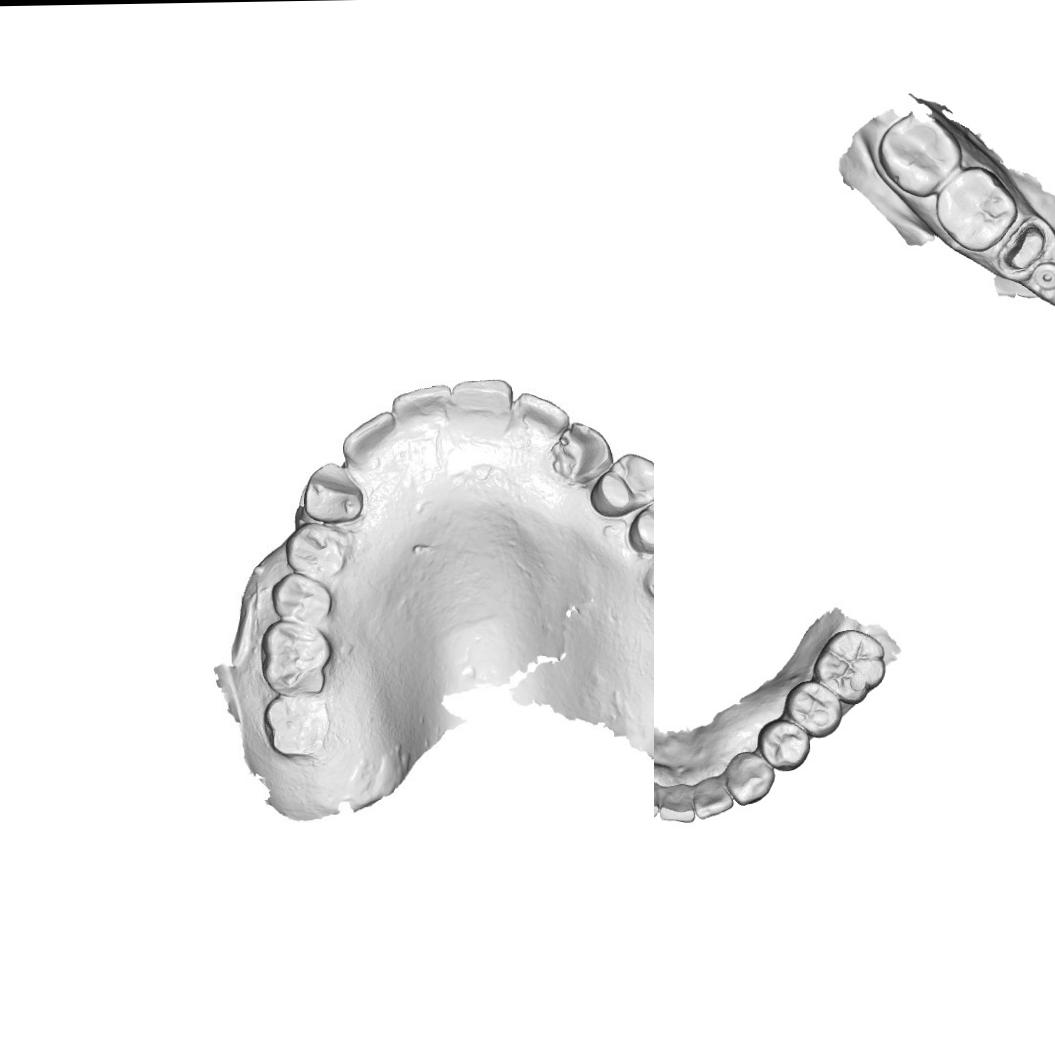canine: (302, 458, 364, 524), (558, 417, 620, 478), (722, 749, 775, 806)
crown: (1001, 220, 1051, 275)
implant: (1027, 259, 1055, 295)
incisor: (340, 409, 405, 464), (390, 383, 458, 435), (448, 379, 518, 426), (514, 390, 570, 444), (693, 776, 734, 820), (658, 782, 696, 824)
molar: (875, 110, 966, 200), (933, 163, 1020, 254), (810, 627, 889, 708), (260, 617, 335, 696), (264, 694, 328, 758)
premolar: (589, 451, 654, 517), (782, 678, 842, 740), (284, 522, 348, 577), (272, 572, 334, 627), (755, 717, 811, 772), (627, 493, 654, 556)
